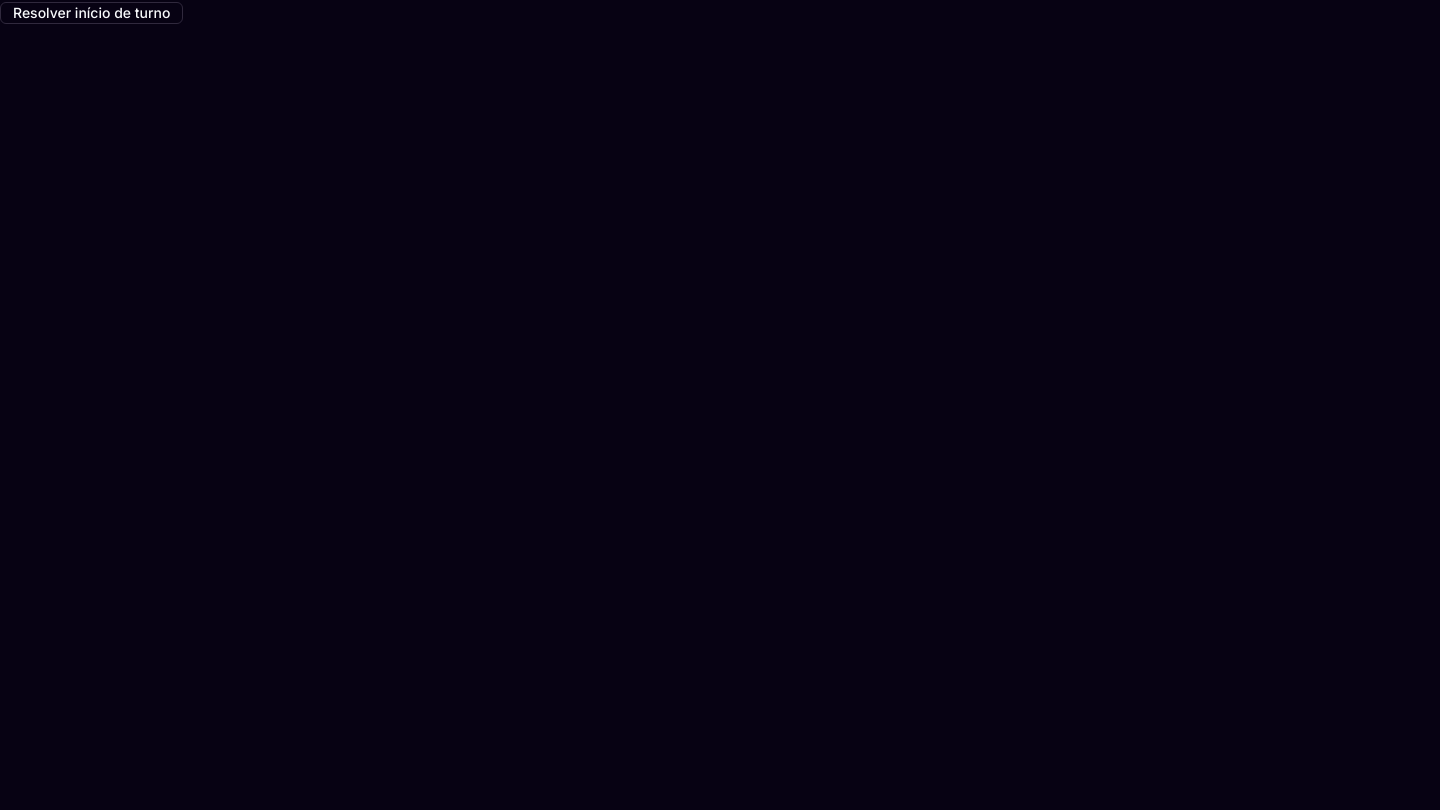
Confirmação de início de turno › mostra os dados de Sangrando somente depois do recibo do servidor
What coordinates should you click on to do the following:
click the button "Resolver início de turno"
I would click on:
 (92, 13)
Its box is [0, 2, 183, 24].
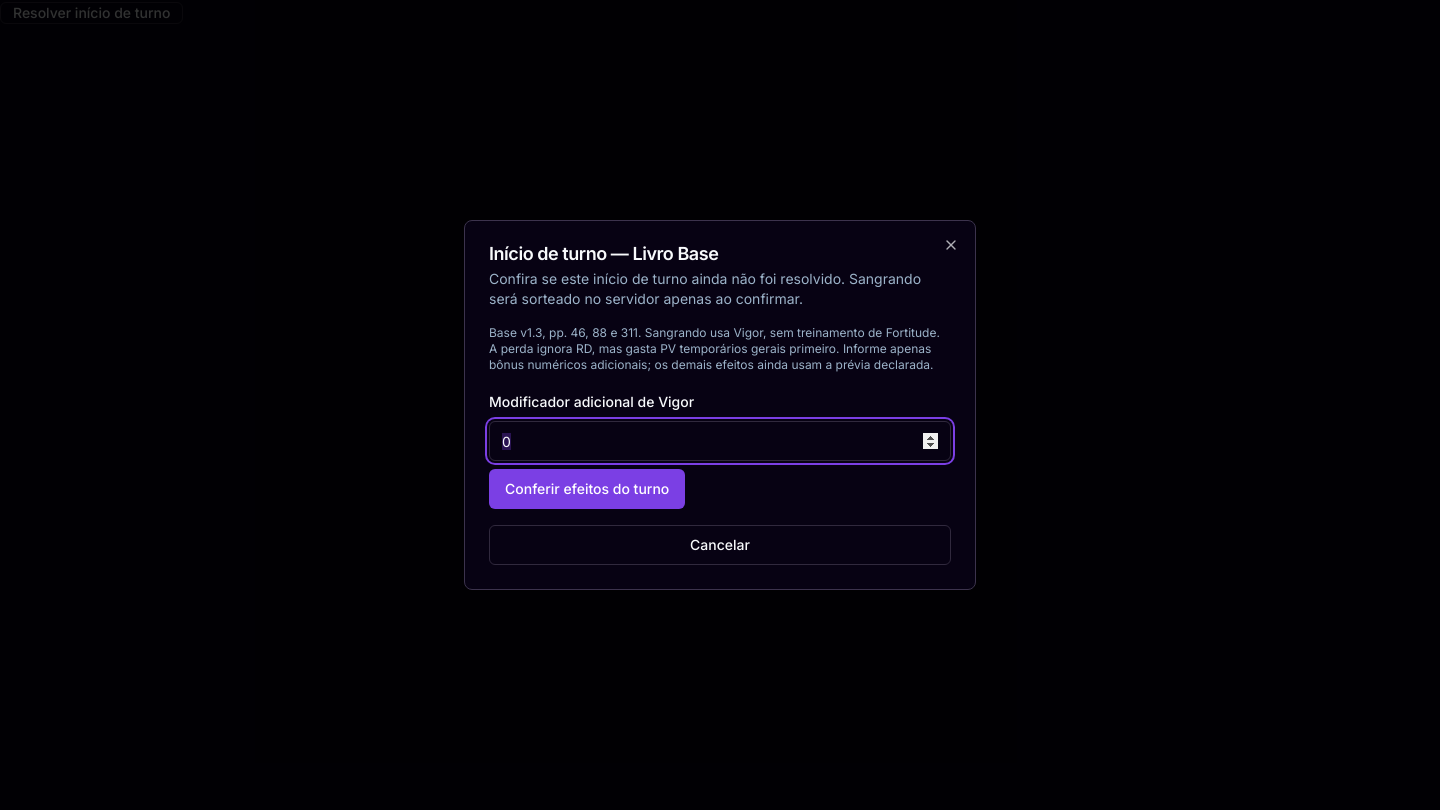
What coordinates should you click on to do the following:
click the button "Conferir efeitos do turno"
I would click on:
 (587, 489)
Its box is [489, 469, 685, 509].
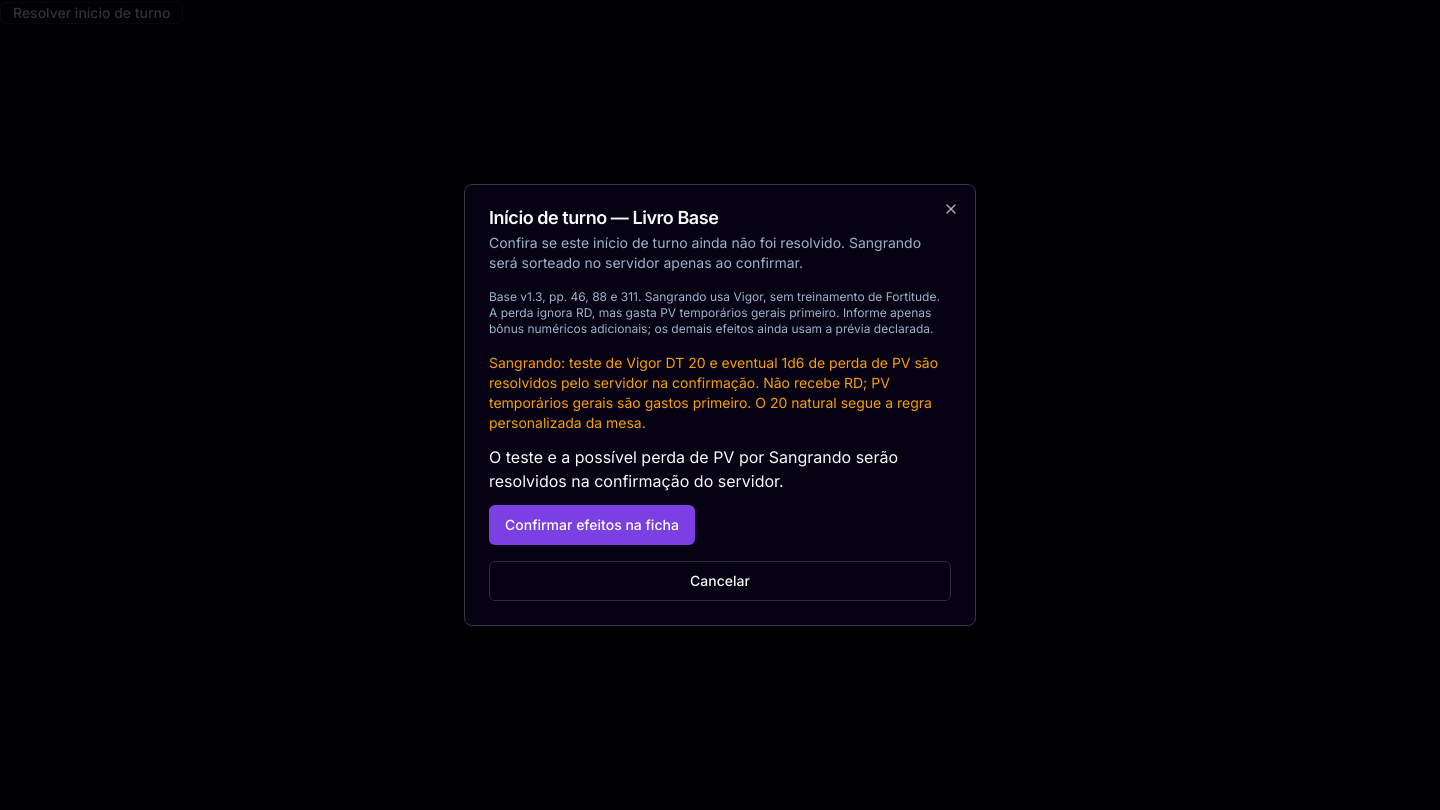
Expected: the text "dados [18]" is not shown
What coordinates should you click on to do the following:
click the button "Confirmar efeitos na ficha"
I would click on:
 (592, 525)
Its box is [489, 505, 695, 545].
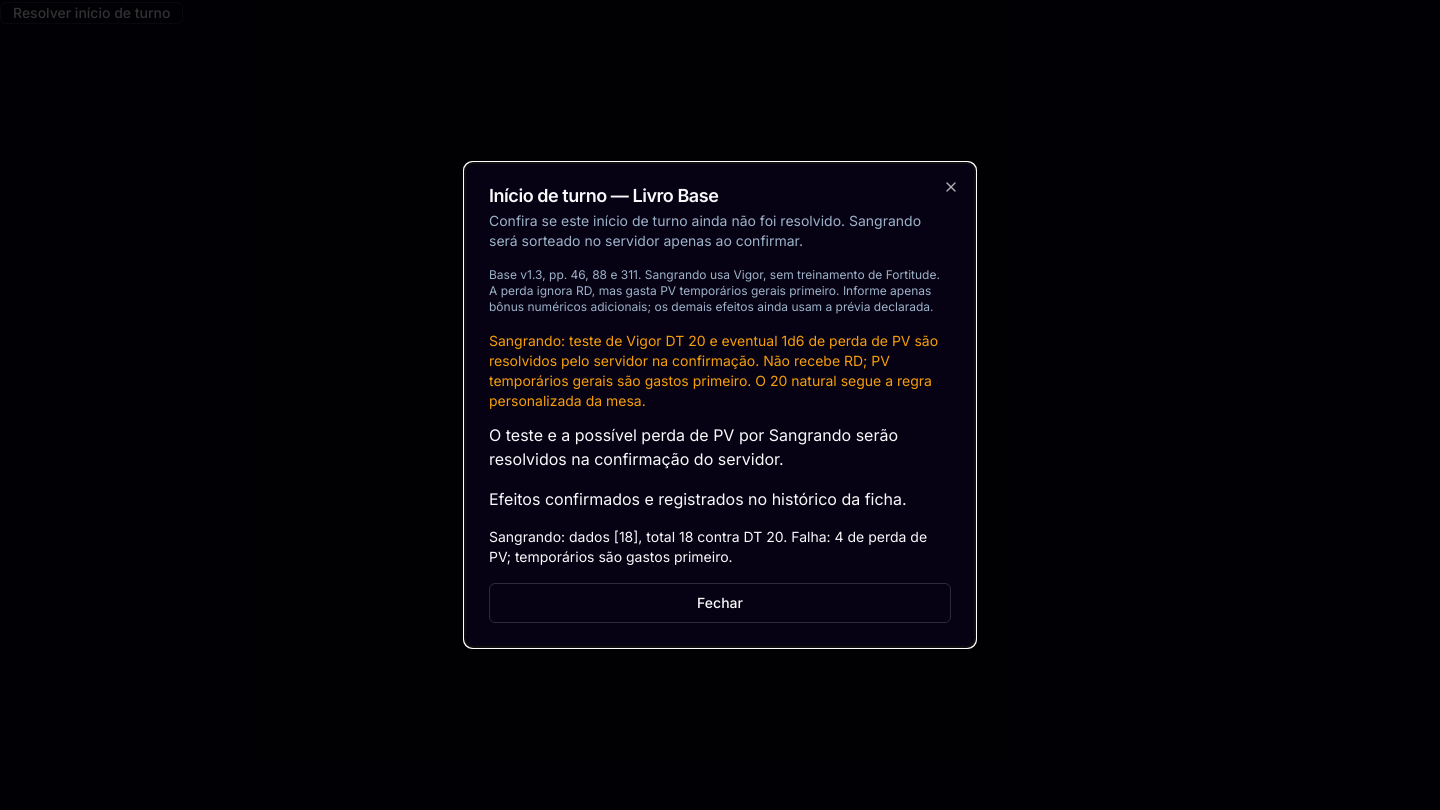
Result: the text "dados [18], total 18 contra DT 20" shows "temporários são gastos primeiro" at [489, 528, 927, 565]
